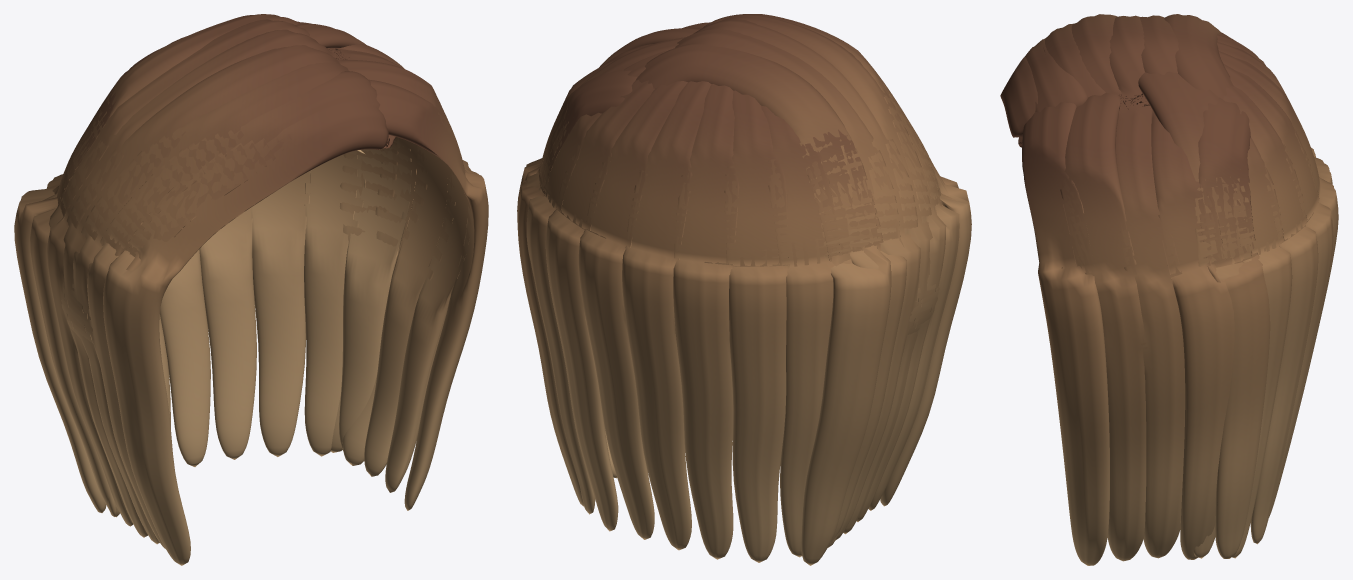
File: Ombre-ae1d5543e798253-hair.glb
3 views of the same model, side by side, from view 1: azimuth 30°, elevation 25°; view 2: azimuth 150°, elevation 25°; view 3: azimuth 270°, elevation 25° (orthographic).
Visible parts, largest first — view 1: 226 hair / Hair / sculpted 0.001, 226 hair / Hair / sculpted 1.002, 226 hair / Hair / sculpted 2.001; view 2: 226 hair / Hair / sculpted 0.001, 226 hair / Hair / sculpted 2.001, 226 hair / Hair / sculpted 1.002; view 3: 226 hair / Hair / sculpted 1.002, 226 hair / Hair / sculpted 2.001, 226 hair / Hair / sculpted 0.001.
Part boxes in pixels (x1,y1,x2,y2): 226 hair / Hair / sculpted 0.001: [14, 14, 455, 565]; 226 hair / Hair / sculpted 1.002: [47, 23, 488, 548]; 226 hair / Hair / sculpted 2.001: [30, 19, 471, 544]; 226 hair / Hair / sculpted 0.001: [545, 14, 971, 565]; 226 hair / Hair / sculpted 2.001: [517, 14, 946, 557]; 226 hair / Hair / sculpted 1.002: [517, 14, 959, 562]; 226 hair / Hair / sculpted 1.002: [1019, 15, 1333, 565]; 226 hair / Hair / sculpted 2.001: [1043, 15, 1338, 561]; 226 hair / Hair / sculpted 0.001: [1000, 14, 1332, 558].
Size of the model in its own units: 1.02 by 1.21 by 0.7752.
Materials: 4 (4 with a texture image).
